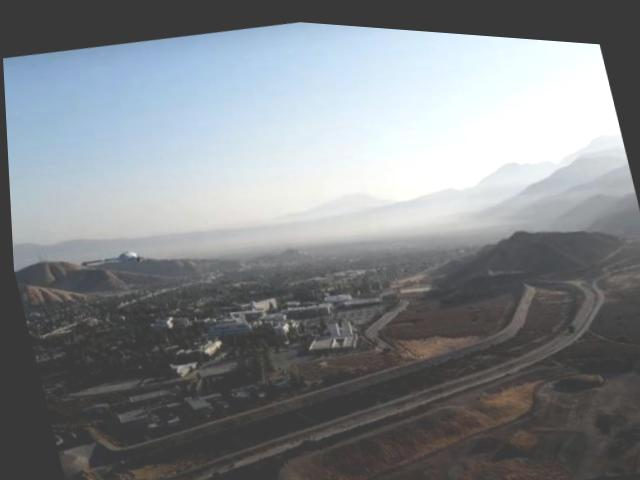iha: (71, 237, 149, 280)
